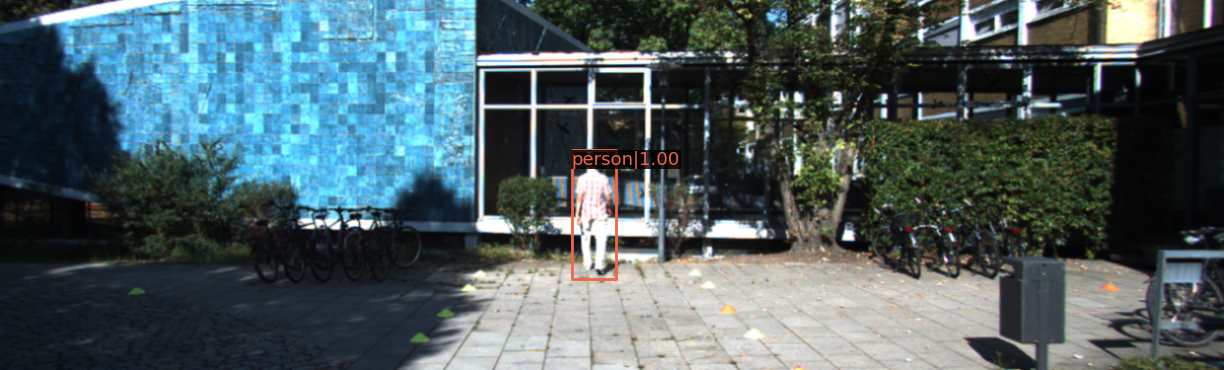person: (574, 151, 614, 279)
